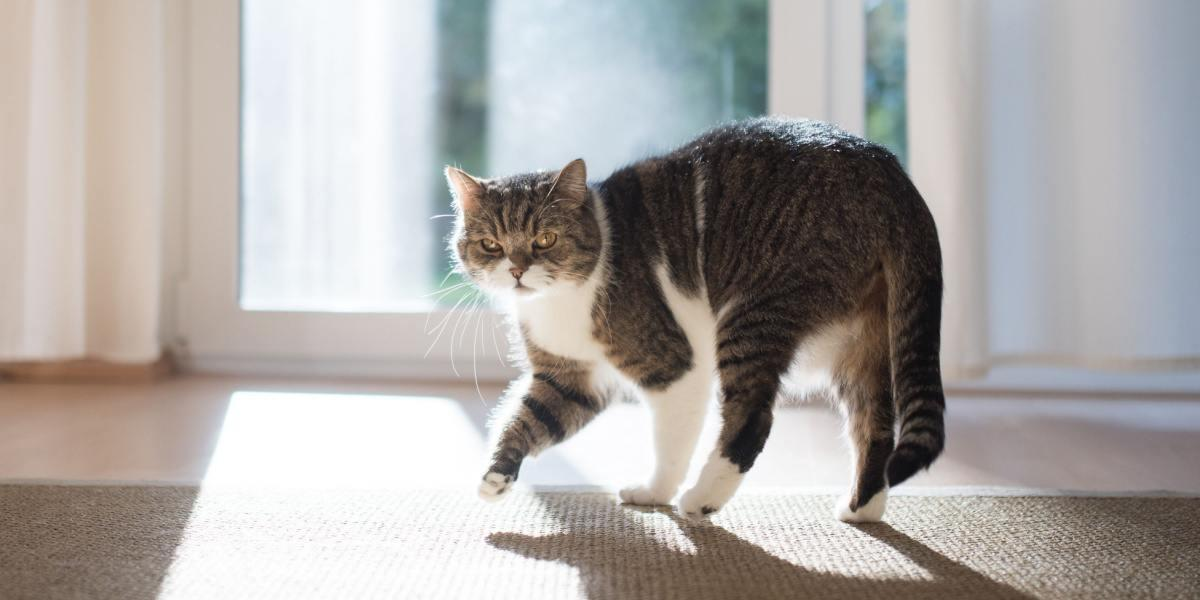fracture: (446, 336, 602, 576)
